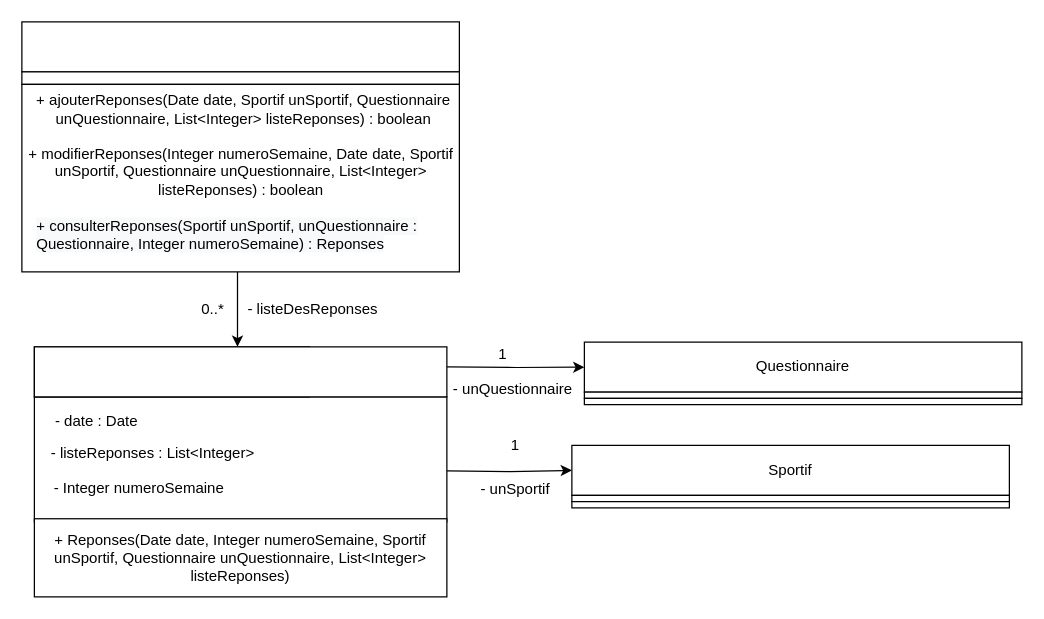
Some shapes in this 1044 by 619 pixel diagram are drawn without their labels. The shapes that lost their labels are listed below. From the top down, each one's centre as x and y in pixels, then its label:
At point (240, 46): "GestionReponses".
At point (240, 371): "Reponses".
